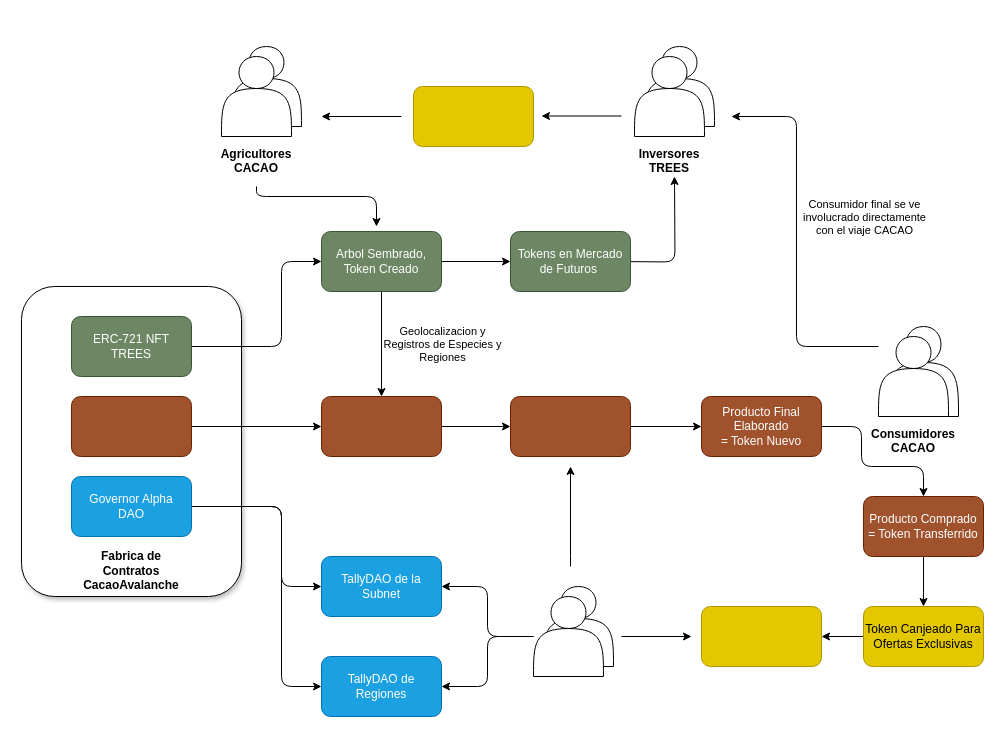
Some shapes in this 1001 by 734 pixel diagram are drawn without their labels. The shapes that lost their labels are listed below. From the top down, each one's centre as x and y in pixels, then its label:
(473,116): Fondos Distribuidos hace la Cultivacion
(131,426): ERC-1155 SFTs CACAO
(381,426): Cosechas De CACAO = Tokens Nuevos
(570,426): Registro de Procesos de Produccion = Metadata
(568,636): Comunidad COLOMBIA
(761,636): Ingresos de Turismo Addicionales
